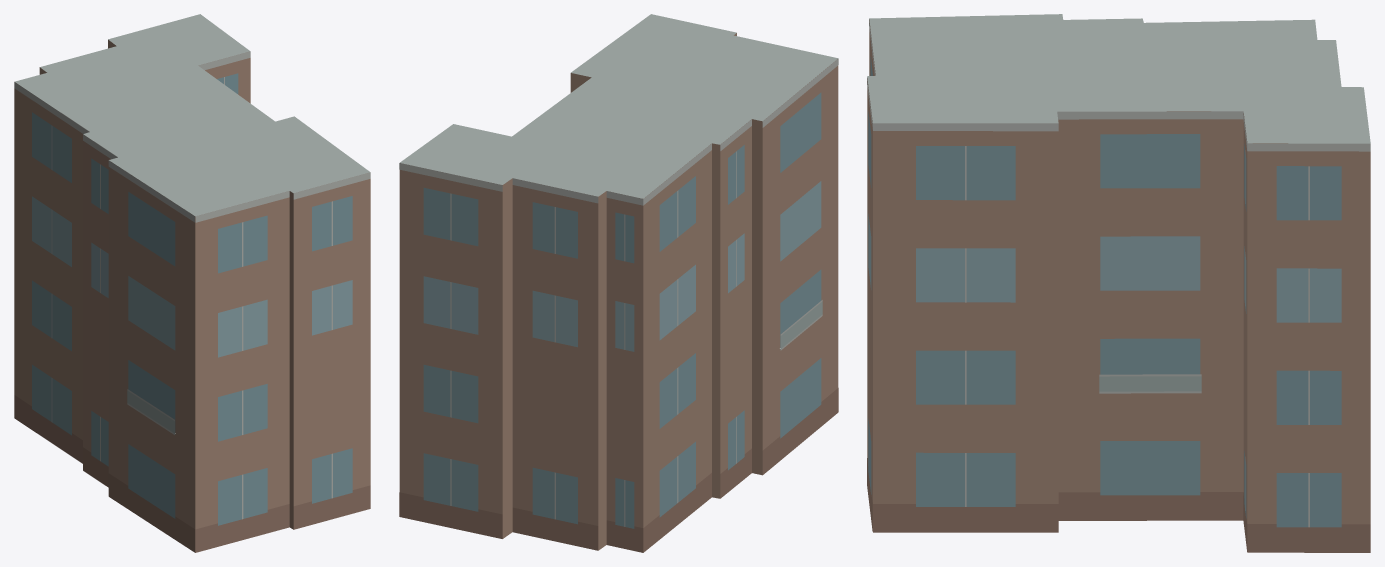
Rendered from survey-upis-32504537.glb.
3 renders of one model, left to right at view 1: azimuth 30°, elevation 25°; view 2: azimuth 150°, elevation 25°; view 3: azimuth 270°, elevation 25°, orthographic. The views are drawn at different scales.
Parts seen in each view (by area): view 1: survey-upis-32504537.tmp; view 2: survey-upis-32504537.tmp; view 3: survey-upis-32504537.tmp.
Boxes of the visible parts, <box> form: survey-upis-32504537.tmp: <box>14,14,370,552</box>; survey-upis-32504537.tmp: <box>399,14,838,552</box>; survey-upis-32504537.tmp: <box>867,14,1370,552</box>.
Size of the model in its own units: 8.64 by 12.7 by 14.17.
